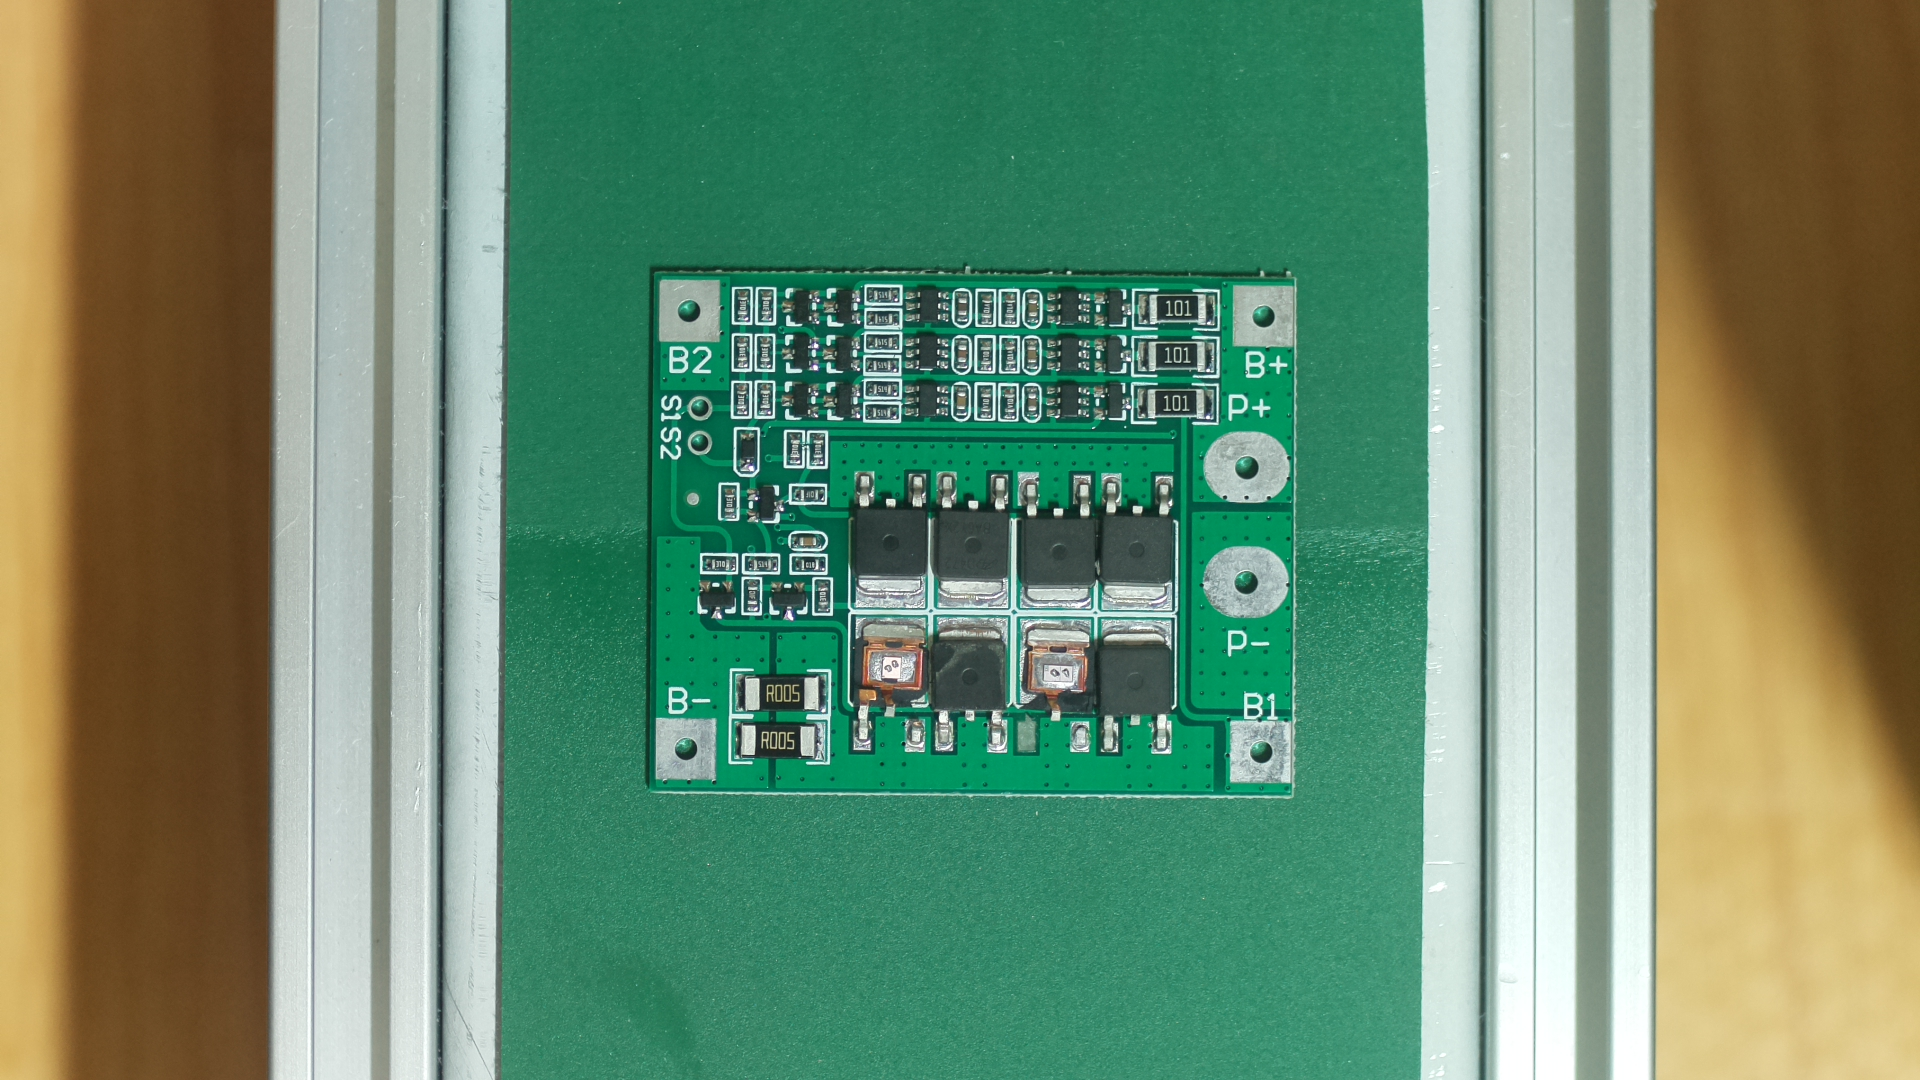C_Missing_part: (636, 251, 1312, 828)
